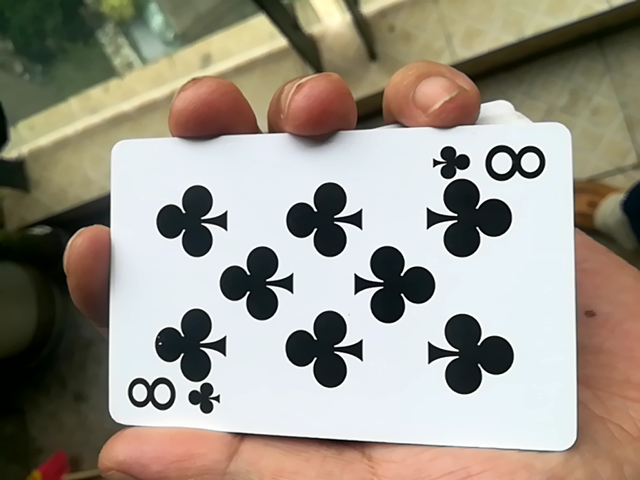mh 8: (102, 126, 568, 464)
